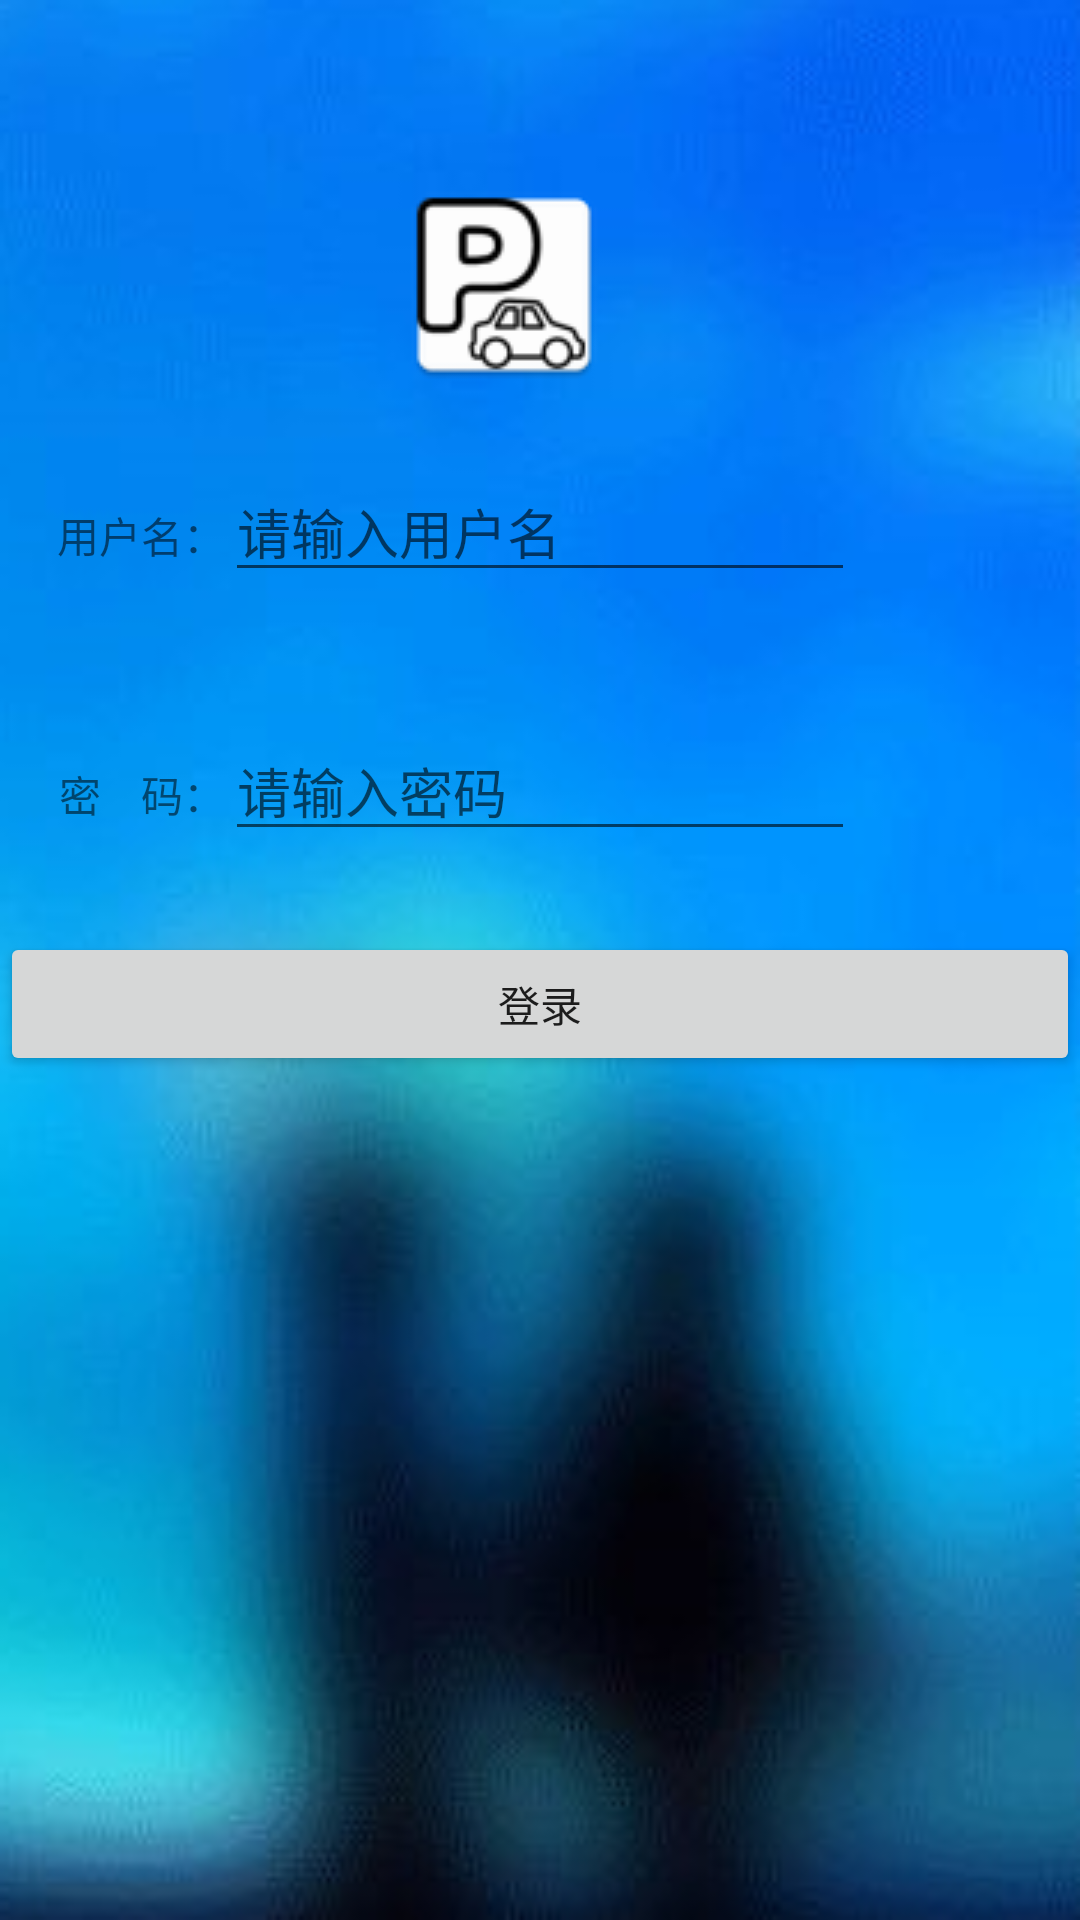

Icon bounding boxes for this 1080 × 1920 phone screenshot, format [left=x1, top=y1, right=x2, bottom=y2]:
park: [left=416, top=197, right=592, bottom=376]
